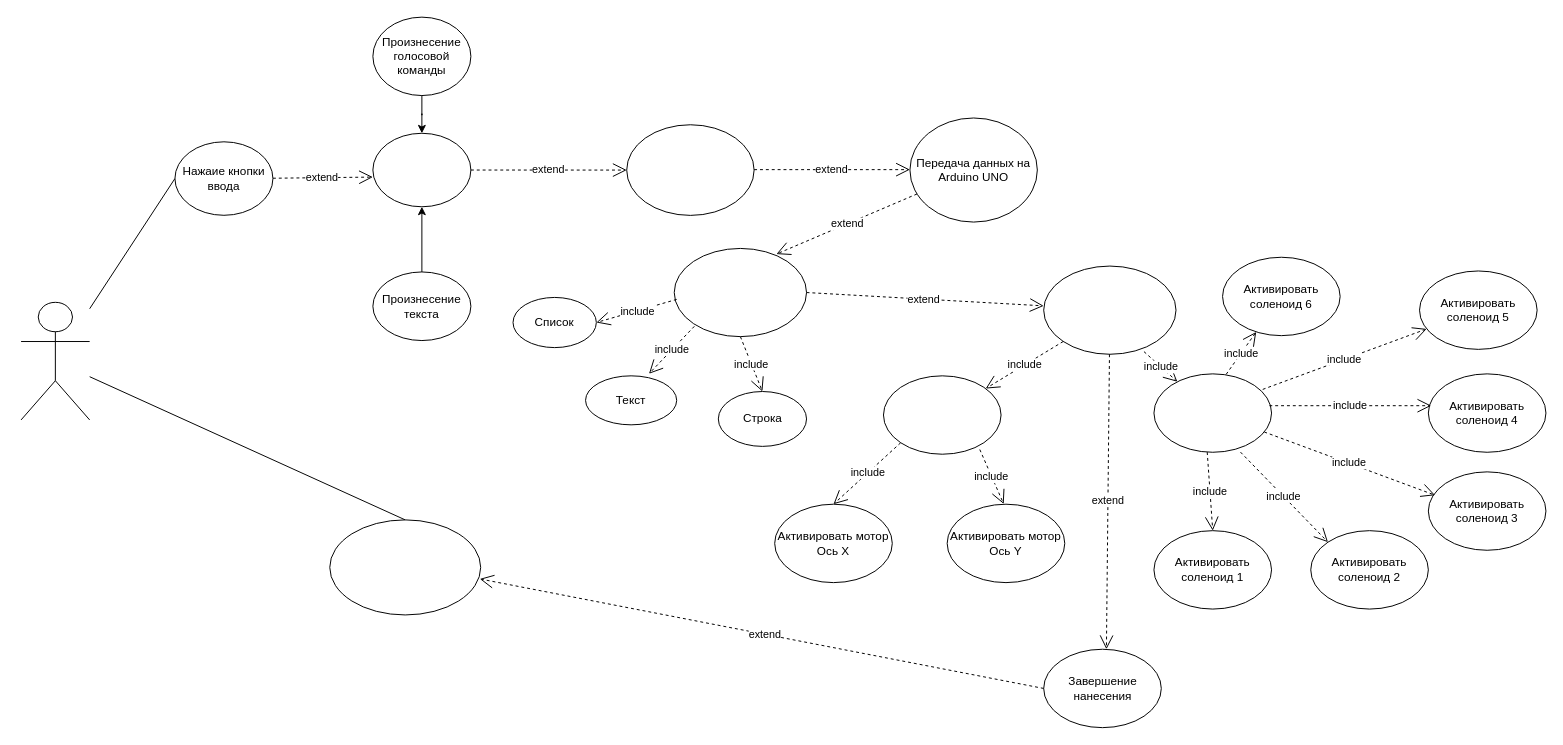
This 1563x745 diagram has some shape labels left out. Here are the shapes that lost their labels. From the top down, the centre of each, then its label:
At (421,169): "Произнесение звуков в микрофон".
At (690,169): "Получение данных на Rasberry PI 3".
At (740,292): "Определение типа нанесения символов".
At (1109,309): "Активация алгоритма нанесения символа".
At (55,360): "Пользователь".
At (941,414): "Активировать мотор".
At (1212,412): "Активировать соленоид".
At (405,567): "Получение готового результата".
